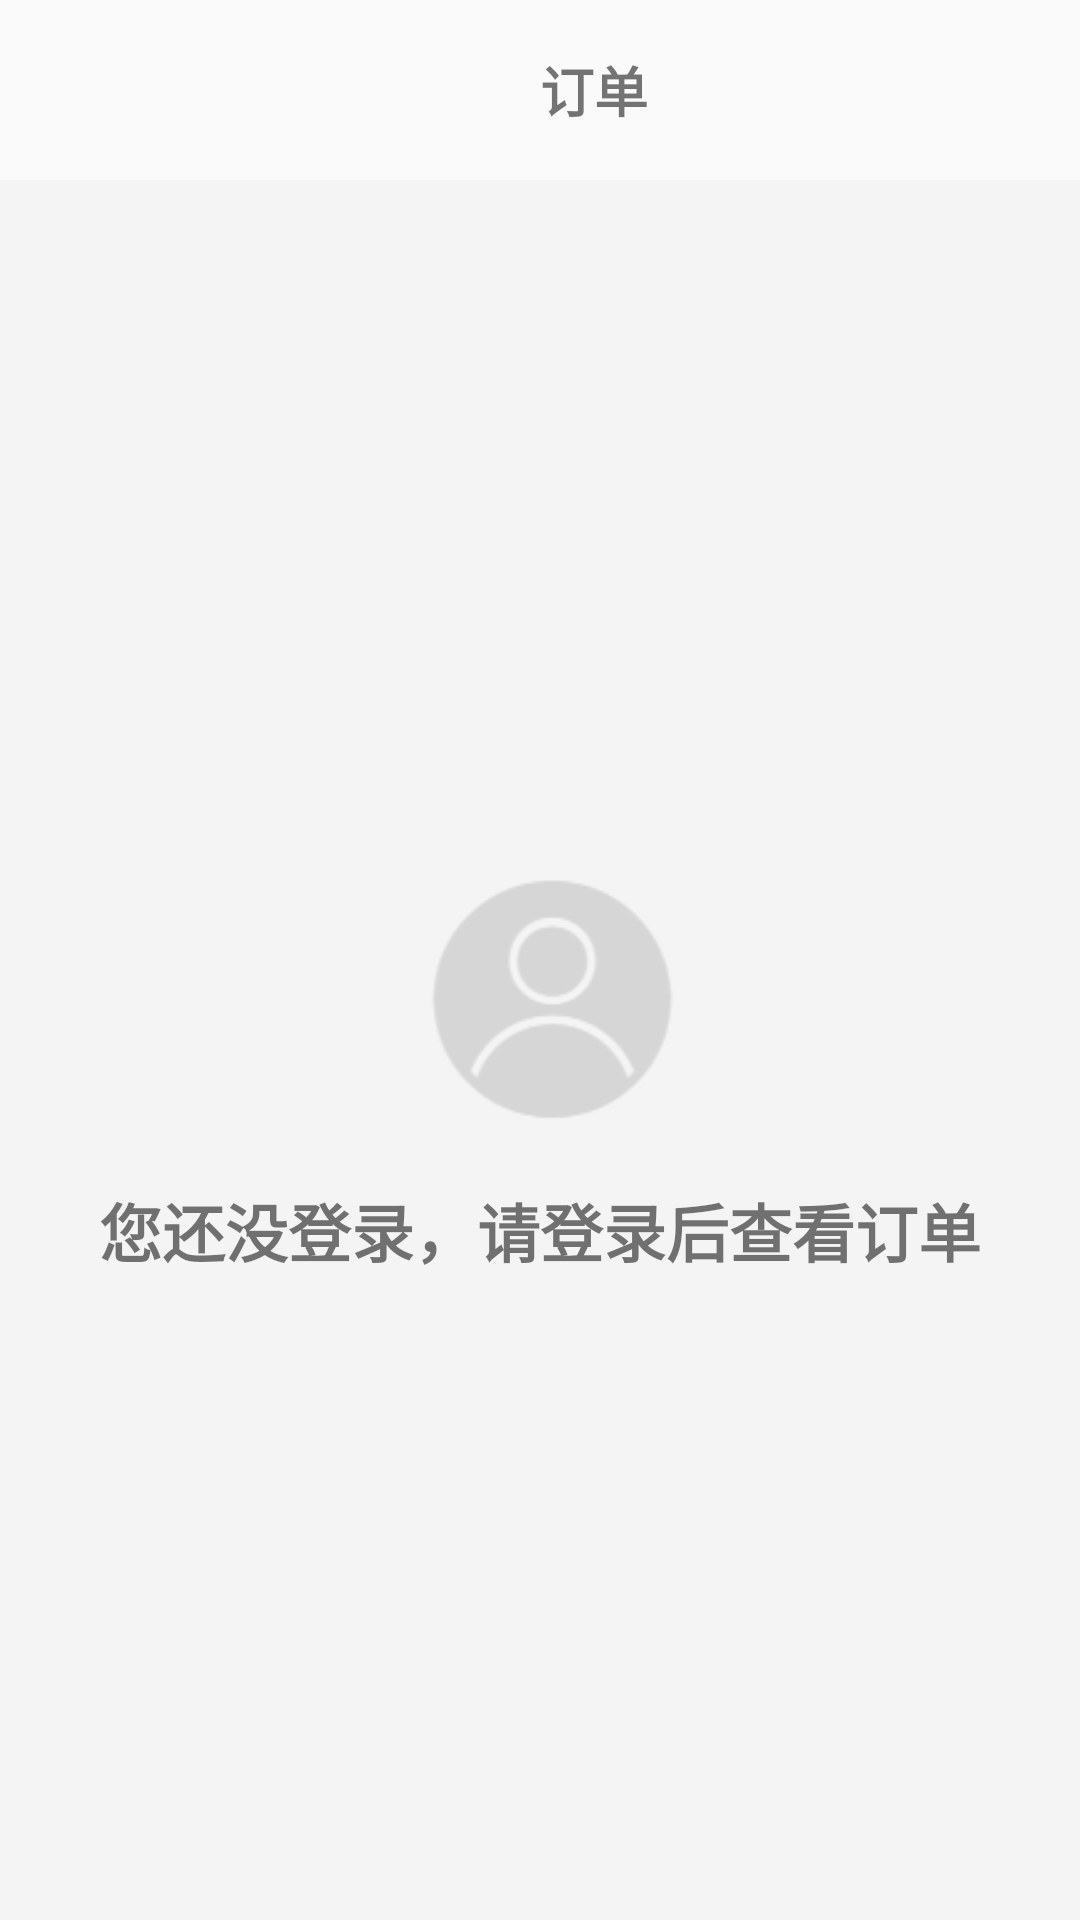

Named icons in this screenshot (1080px x 1920px) and their bounding boxes, (x1, y1, x2, y2):
toux: (435, 882, 670, 1117)
